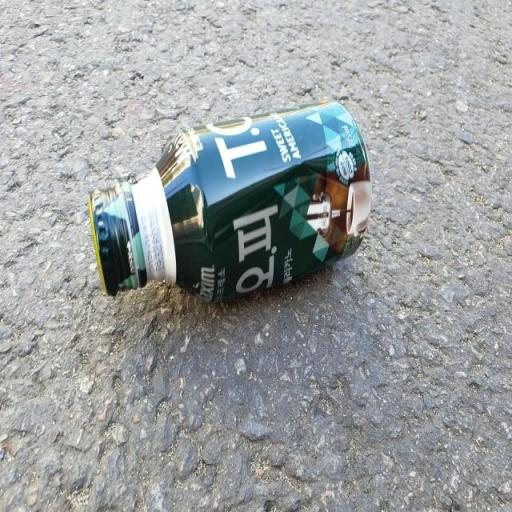metal: (69, 51, 427, 348)
